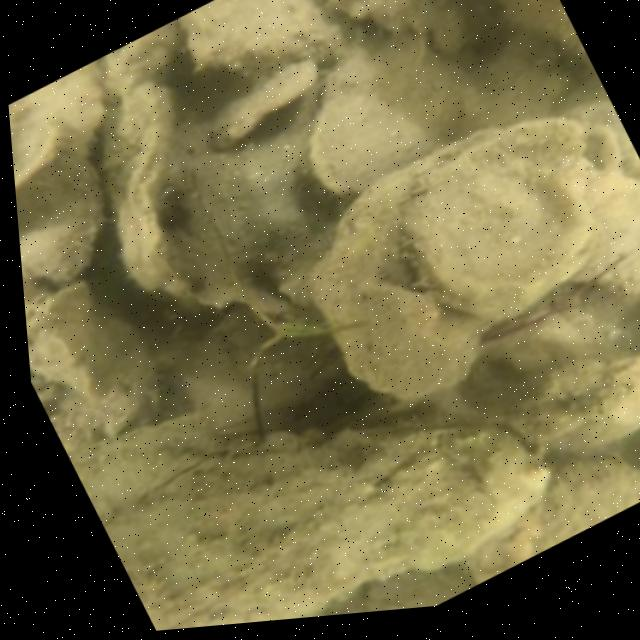Oyster-Closed: (99, 408, 553, 631)
Oyster-Indeterminate: (318, 150, 482, 399), (9, 58, 112, 285), (24, 284, 160, 419), (103, 82, 187, 290), (309, 61, 428, 191), (187, 0, 343, 73), (254, 333, 358, 430), (537, 454, 640, 539), (326, 0, 480, 45), (498, 0, 581, 65), (104, 26, 174, 94)
Oyster-Open: (396, 118, 626, 324)
